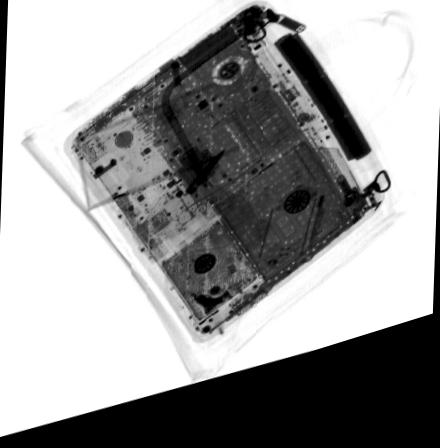Bullet: (181, 162, 226, 207)
